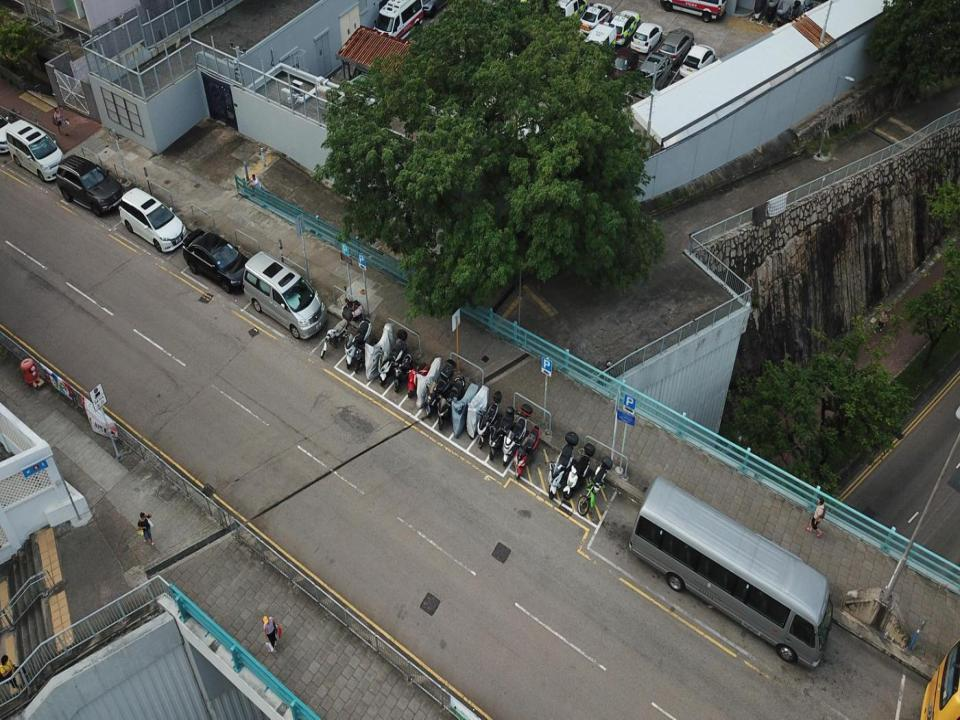bus: (629, 476, 832, 668)
car: (182, 228, 253, 292), (657, 28, 694, 66), (679, 43, 716, 80), (608, 10, 640, 47), (579, 1, 612, 36), (606, 49, 638, 85), (630, 21, 663, 55)
van: (242, 250, 326, 338), (349, 35, 412, 114), (119, 187, 188, 255), (57, 152, 127, 218), (5, 118, 66, 184), (370, 0, 422, 48), (580, 20, 617, 74), (634, 51, 672, 98), (661, 1, 728, 24), (547, 0, 588, 30)
